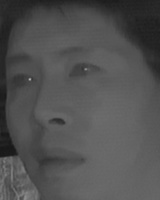eye: (63, 60, 103, 83), (6, 71, 36, 91)
mouth: (31, 144, 87, 177)
